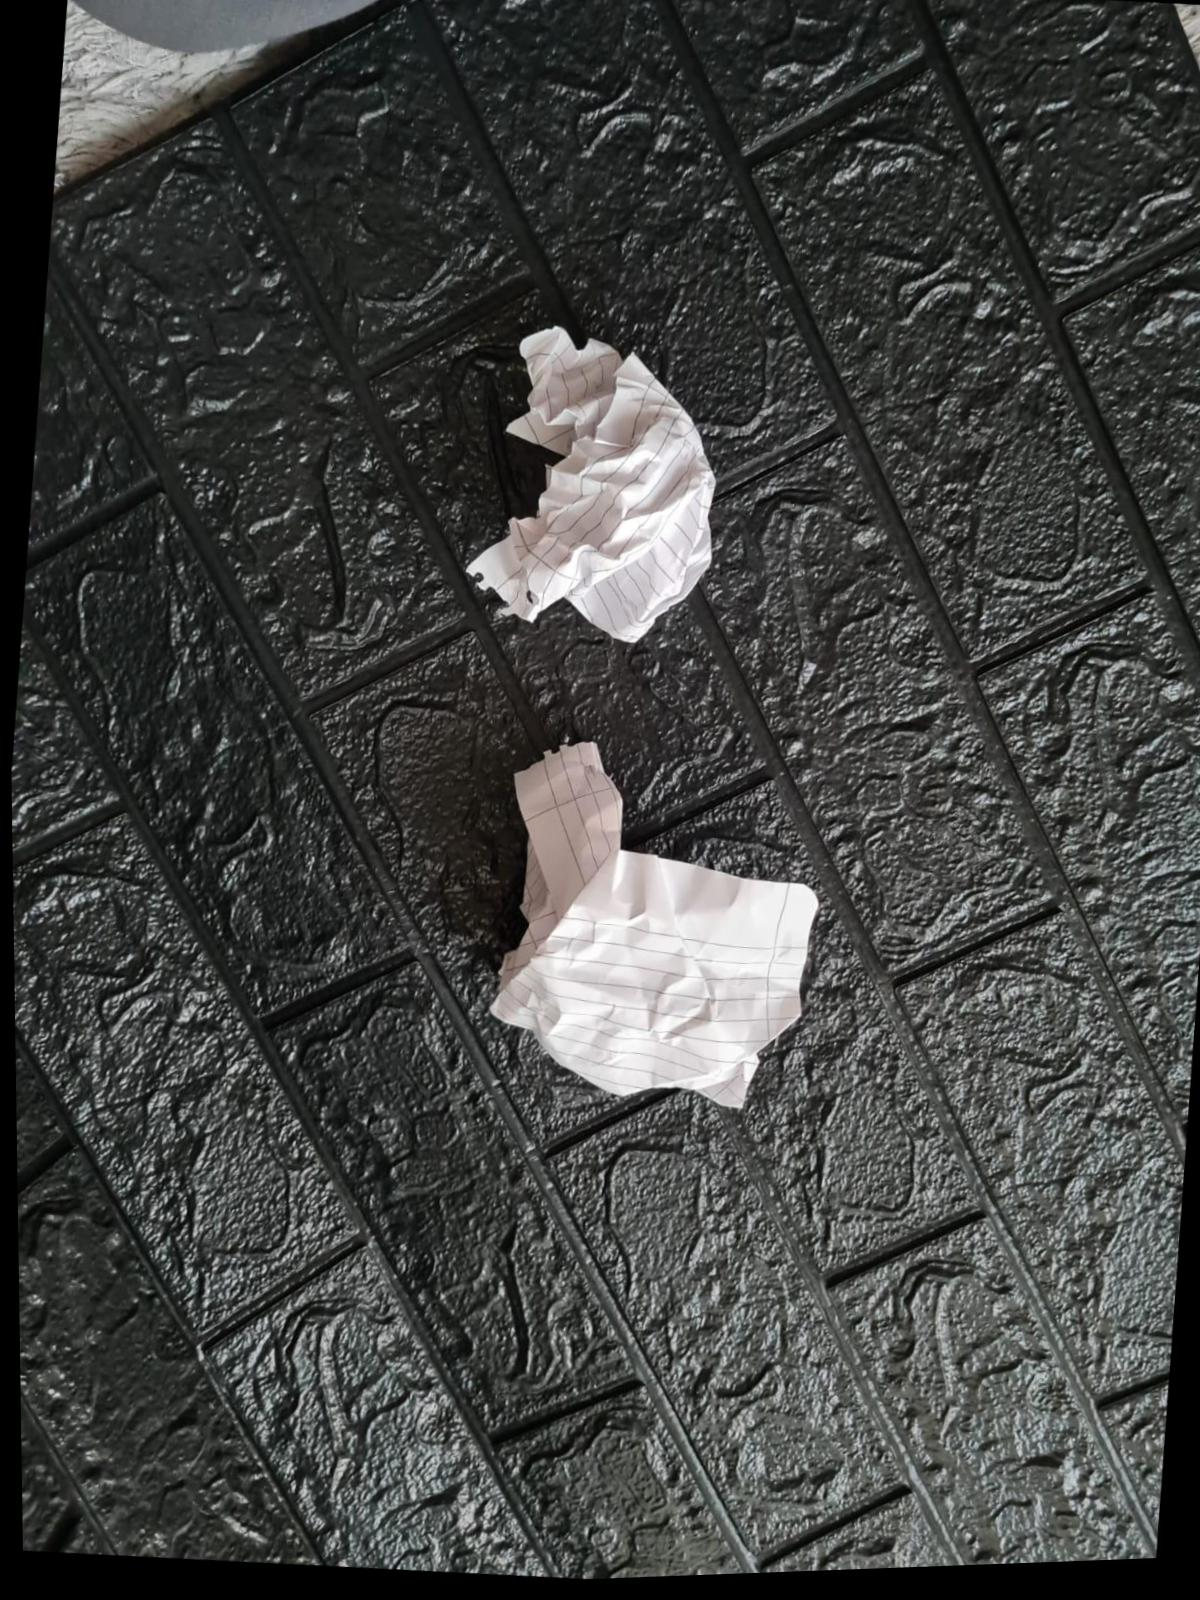paper: (493, 742, 816, 1107), (469, 328, 713, 641)
